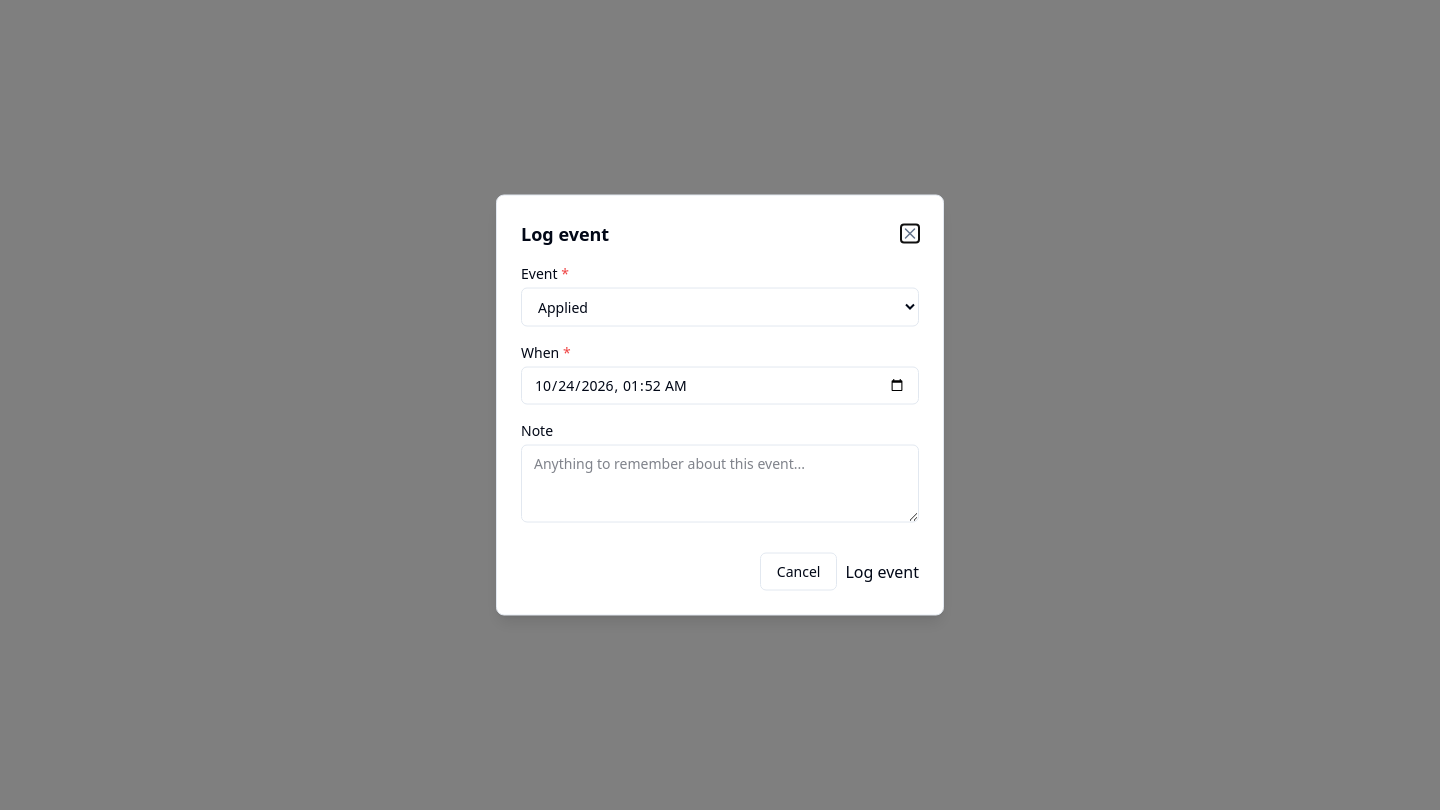
Test: LogEventDialog — interview_details › blocks submit on an interview event when type is unset
Step 1. Select "Interview scheduled" in the dropdown labelled "Event *" → (720, 307), box left=521, top=288, right=919, bottom=326
(page scrolled)
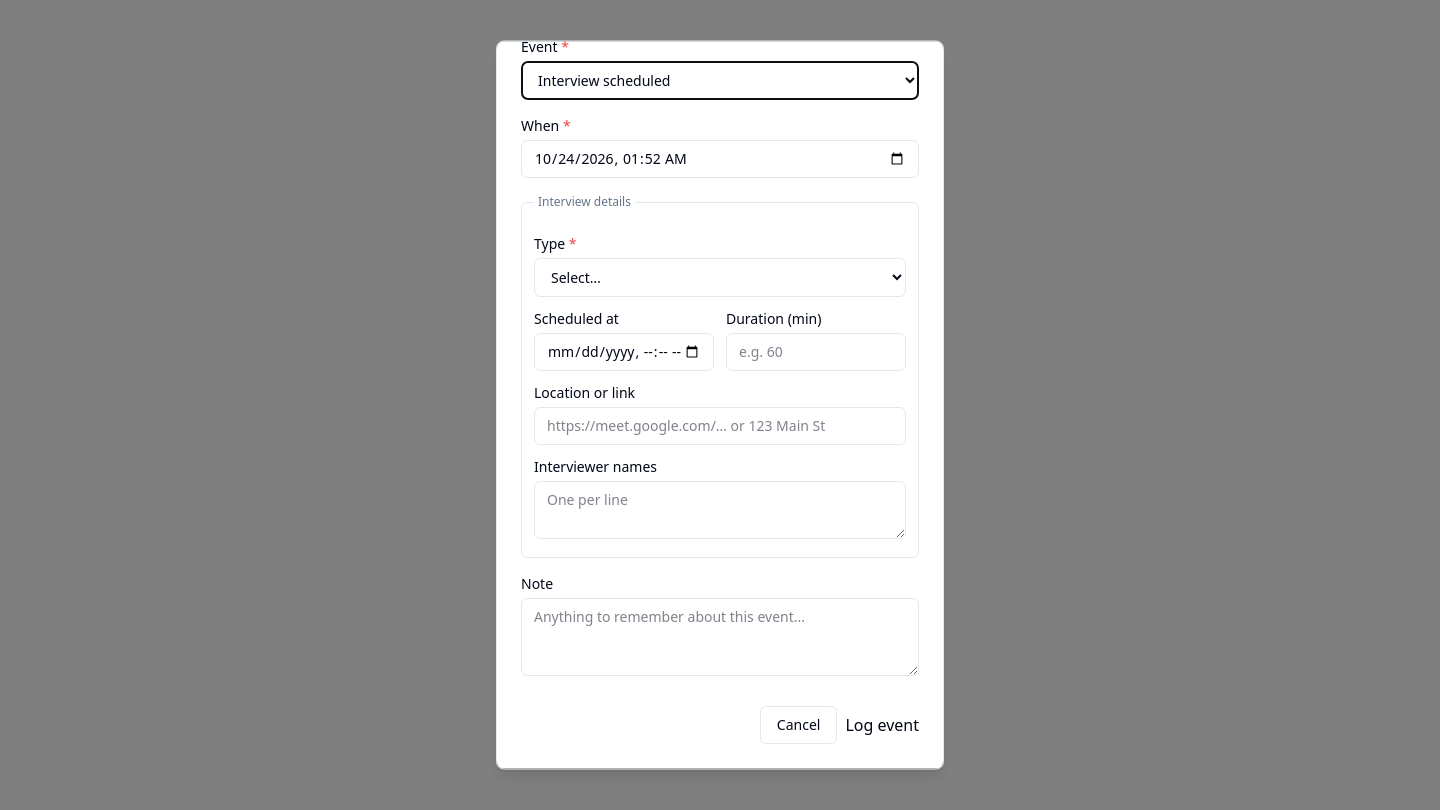
Step 2. Click the button "Log event" → (882, 726), box left=845, top=706, right=919, bottom=744
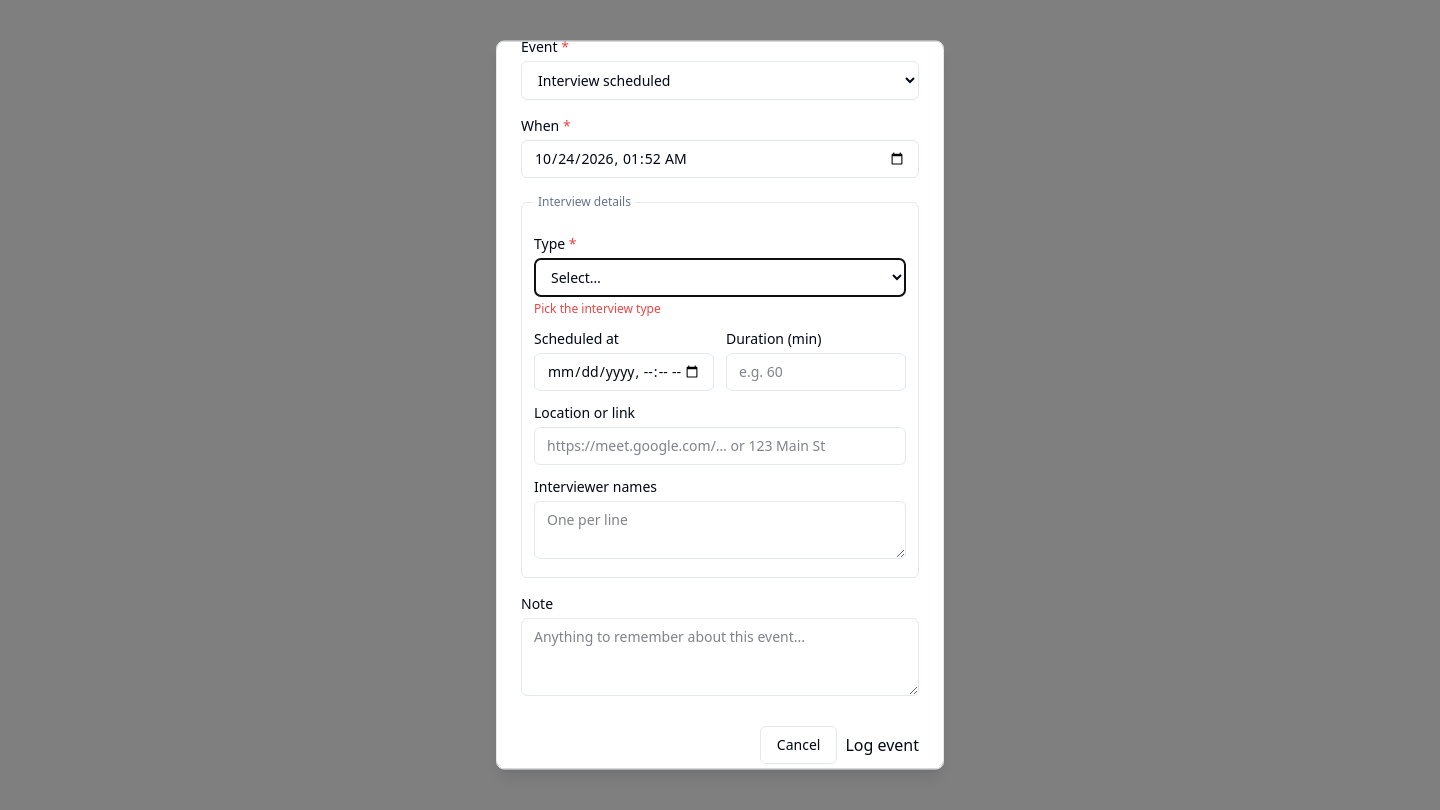
Result: the text "Pick the interview type" is shown at left=534, top=300, right=661, bottom=318
